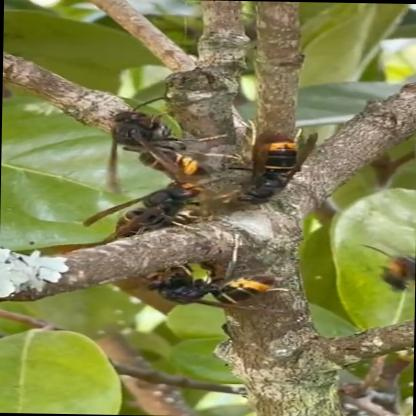bee: (63, 64, 350, 314), (320, 232, 416, 306)
